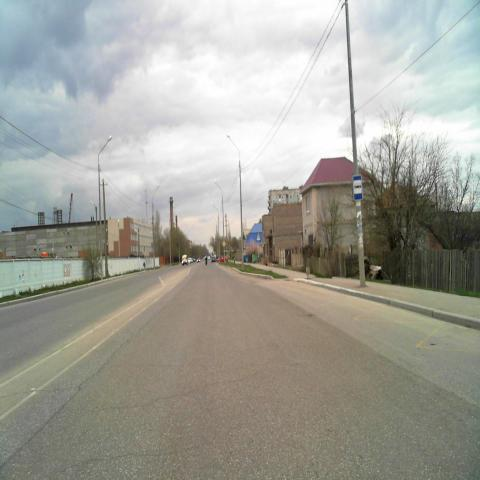5_16: (352, 174, 363, 200)
